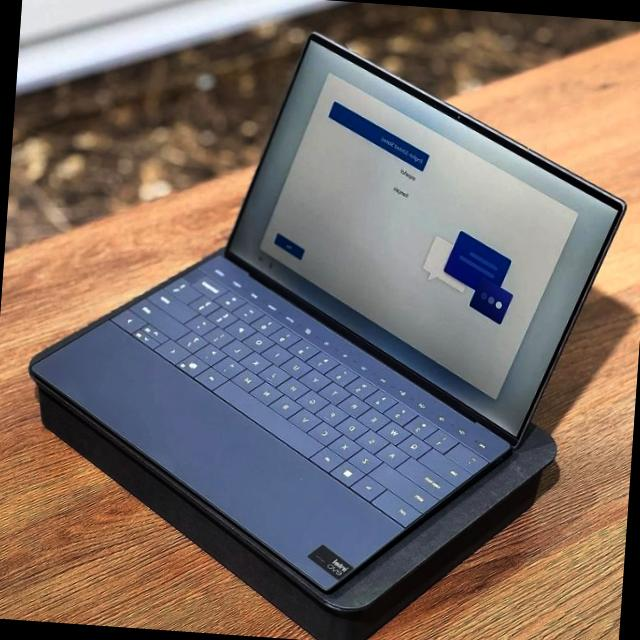laptop: (30, 14, 631, 604)
